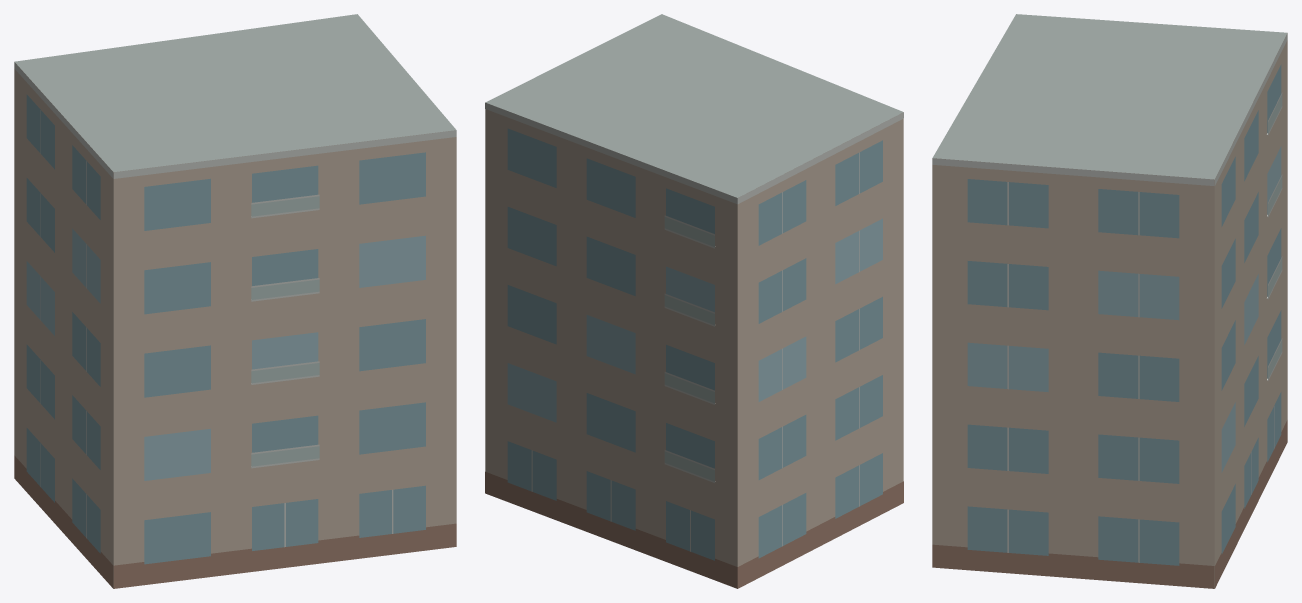
File: survey-upis-32681676.glb
The picture shows the model from 3 angles, left to right: view 1: azimuth 30°, elevation 25°; view 2: azimuth 150°, elevation 25°; view 3: azimuth 270°, elevation 25°; orthographic projection. The views are drawn at different scales.
Visible parts, largest first — view 1: survey-upis-32681676.tmp; view 2: survey-upis-32681676.tmp; view 3: survey-upis-32681676.tmp.
Part boxes in pixels (x1=…): survey-upis-32681676.tmp: x1=14, y1=14, x2=456, y2=588; survey-upis-32681676.tmp: x1=485, y1=14, x2=903, y2=588; survey-upis-32681676.tmp: x1=932, y1=14, x2=1287, y2=588.
Bounding box in the file's own units: 12.97 × 14.95 × 11.77.
